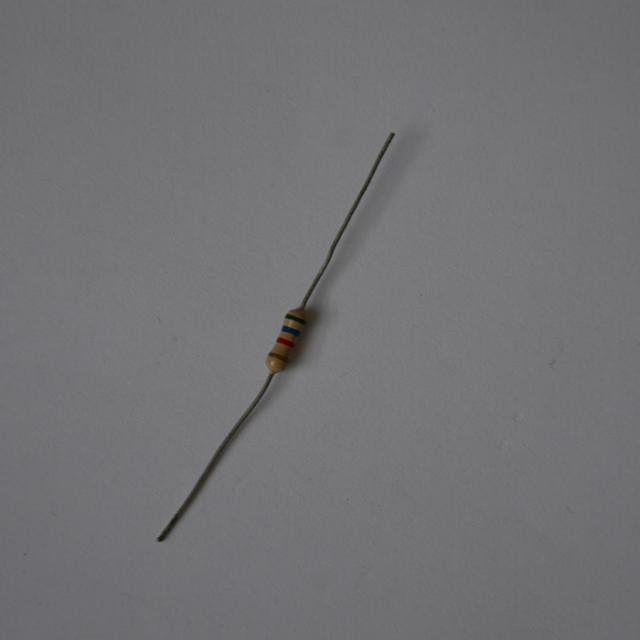blue: (282, 325, 300, 336)
gold: (268, 350, 287, 361)
green: (285, 312, 307, 325)
red: (276, 336, 293, 347)
